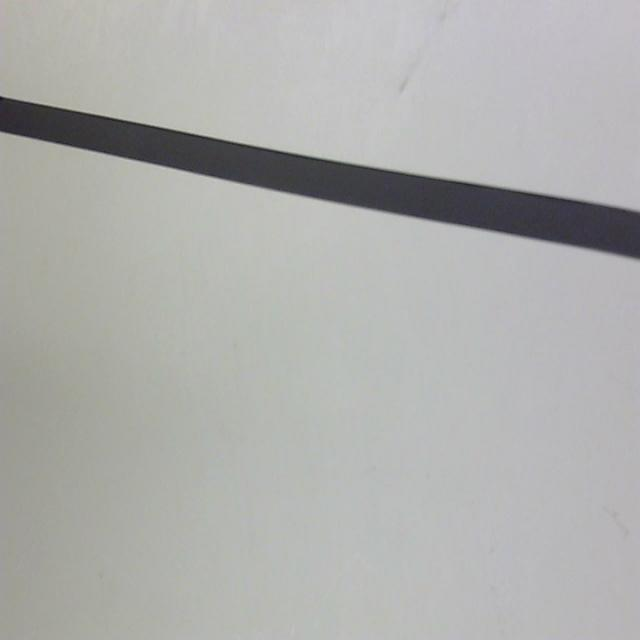tape: (0, 65, 640, 286)
